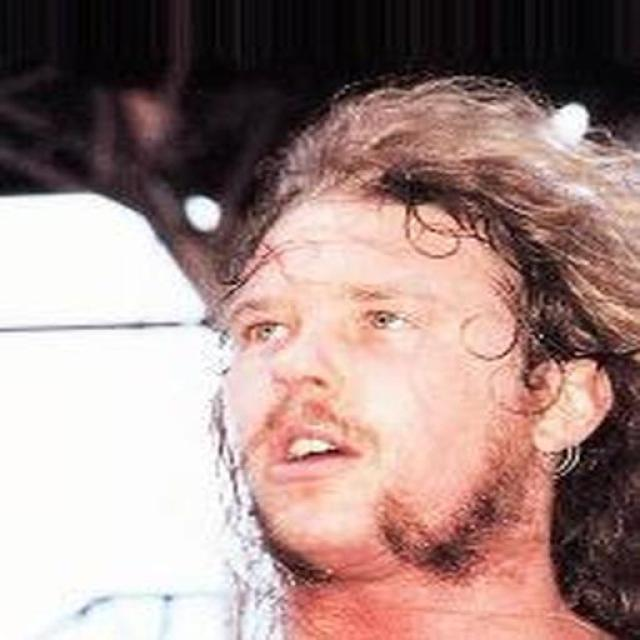bareface: (215, 142, 594, 554)
